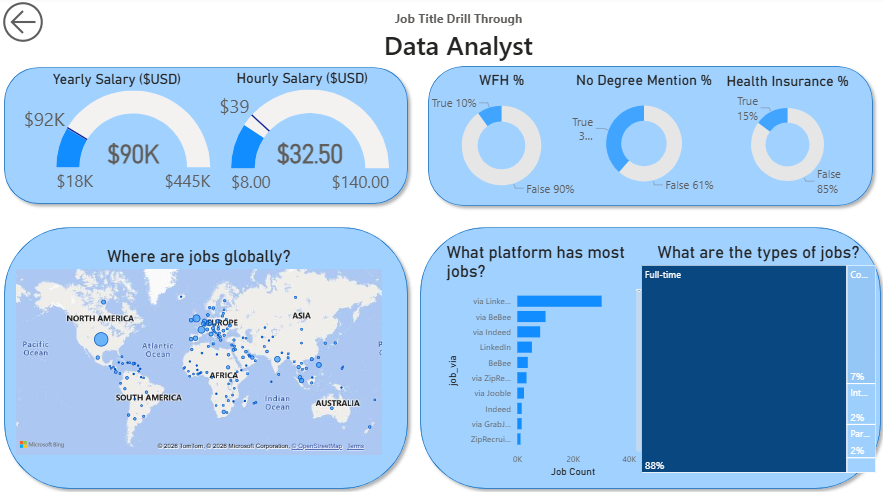

This screenshot's page, from the dashboard's own definition file:
{"tool":"powerbi","page":{"name":"Job Title Drill Through","canvas":[1280,720],"ordinal":1},"visuals":[{"type":"group","id":"g1","title":"Backgrounds","box":[0,90.7,1280.2,626.4],"z":0},{"type":"shape","box":[0,92.1,599,214.6],"z":0,"group":"g1"},{"type":"cardVisual","fields":{"Data":["Min(job_postings_flat.job_title_short)1"]},"box":[298.1,0,730.1,110.9],"z":1000},{"type":"shape","box":[599,322.5,681.1,394.6],"z":1000,"group":"g1"},{"type":"actionButton","box":[0,0,105.1,72],"z":2000},{"type":"shape","box":[0,322.5,599,394.6],"z":2000,"group":"g1"},{"type":"shape","box":[610.6,90.7,658.1,218.9],"z":3000,"group":"g1"},{"type":"gauge","title":" Yearly Salary ($USD)","fields":{"Y":["Median(job_postings_flat.salary_year_avg)"],"MinValue":["Min(job_postings_flat.salary_year_avg)1"],"MaxValue":["Max(job_postings_flat.salary_year_avg)2"],"TargetValue":["Avg(job_postings_flat.salary_year_avg)3"]},"box":[0,106.6,341.3,185.8],"z":3000},{"type":"gauge","title":"Hourly Salary ($USD)","fields":{"Y":["Median(job_postings_flat.salary_hour_avg)"],"MinValue":["Min(job_postings_flat.salary_hour_avg)1"],"MaxValue":["Max(job_postings_flat.salary_hour_avg)2"],"TargetValue":["Avg(job_postings_flat.salary_hour_avg)3"]},"box":[306.7,105.1,262.1,188.6],"z":4000},{"type":"donutChart","title":"WFH %","fields":{"Category":["job_postings_flat.job_work_from_home"],"Y":["CountNonNull(job_postings_flat.job_work_from_home)"]},"box":[606.2,108,237.6,188.6],"z":5000},{"type":"donutChart","title":"No Degree Mention %","fields":{"Category":["job_postings_flat.job_no_degree_mention"],"Y":["CountNonNull(job_postings_flat.job_work_from_home)"]},"box":[820.8,108,218.9,182.9],"z":6000},{"type":"donutChart","title":"Health Insurance %","fields":{"Category":["job_postings_flat.job_health_insurance"],"Y":["CountNonNull(job_postings_flat.job_work_from_home)"]},"box":[1039.7,109.4,194.4,182.9],"z":7000},{"type":"map","title":"Where are jobs globally?","fields":{"Category":["job_postings_flat.job_country"],"Size":["CountNonNull(job_postings_flat.job_title_short)"]},"box":[21.6,360,535.7,303.8],"z":8000},{"type":"treemap","title":"What are the types of jobs?","fields":{"Group":["job_postings_flat.job_schedule_type"],"Values":["CountNonNull(job_postings_flat.job_schedule_type)"]},"box":[921.6,354.2,347,335.5],"z":9000},{"type":"barChart","title":"What platform has most jobs?","fields":{"Category":["job_postings_flat.job_via"],"Y":["CountNonNull(job_postings_flat.job_via)"]},"box":[640.8,354.2,290.9,342.7],"z":10000}]}

Visuals, with their boxes in screenshot pixels (x1, y1, x2, y2), scaled from the page's 1280x720 canvas onto the 883x492 screenshot:
"Backgrounds" group: region(0, 62, 882, 490)
shape: region(0, 63, 413, 210)
cardVisual - Min(job_postings_flat.job_title_short)1: region(206, 0, 709, 76)
shape: region(413, 220, 882, 490)
actionButton: region(0, 0, 73, 49)
shape: region(0, 220, 413, 490)
shape: region(421, 62, 875, 212)
" Yearly Salary ($USD)" gauge: region(0, 73, 235, 200)
"Hourly Salary ($USD)" gauge: region(212, 72, 392, 201)
"WFH %" donutChart: region(418, 74, 582, 203)
"No Degree Mention %" donutChart: region(566, 74, 717, 199)
"Health Insurance %" donutChart: region(717, 75, 851, 200)
"Where are jobs globally?" map: region(15, 246, 384, 454)
"What are the types of jobs?" treemap: region(636, 242, 875, 471)
"What platform has most jobs?" barChart: region(442, 242, 643, 476)
